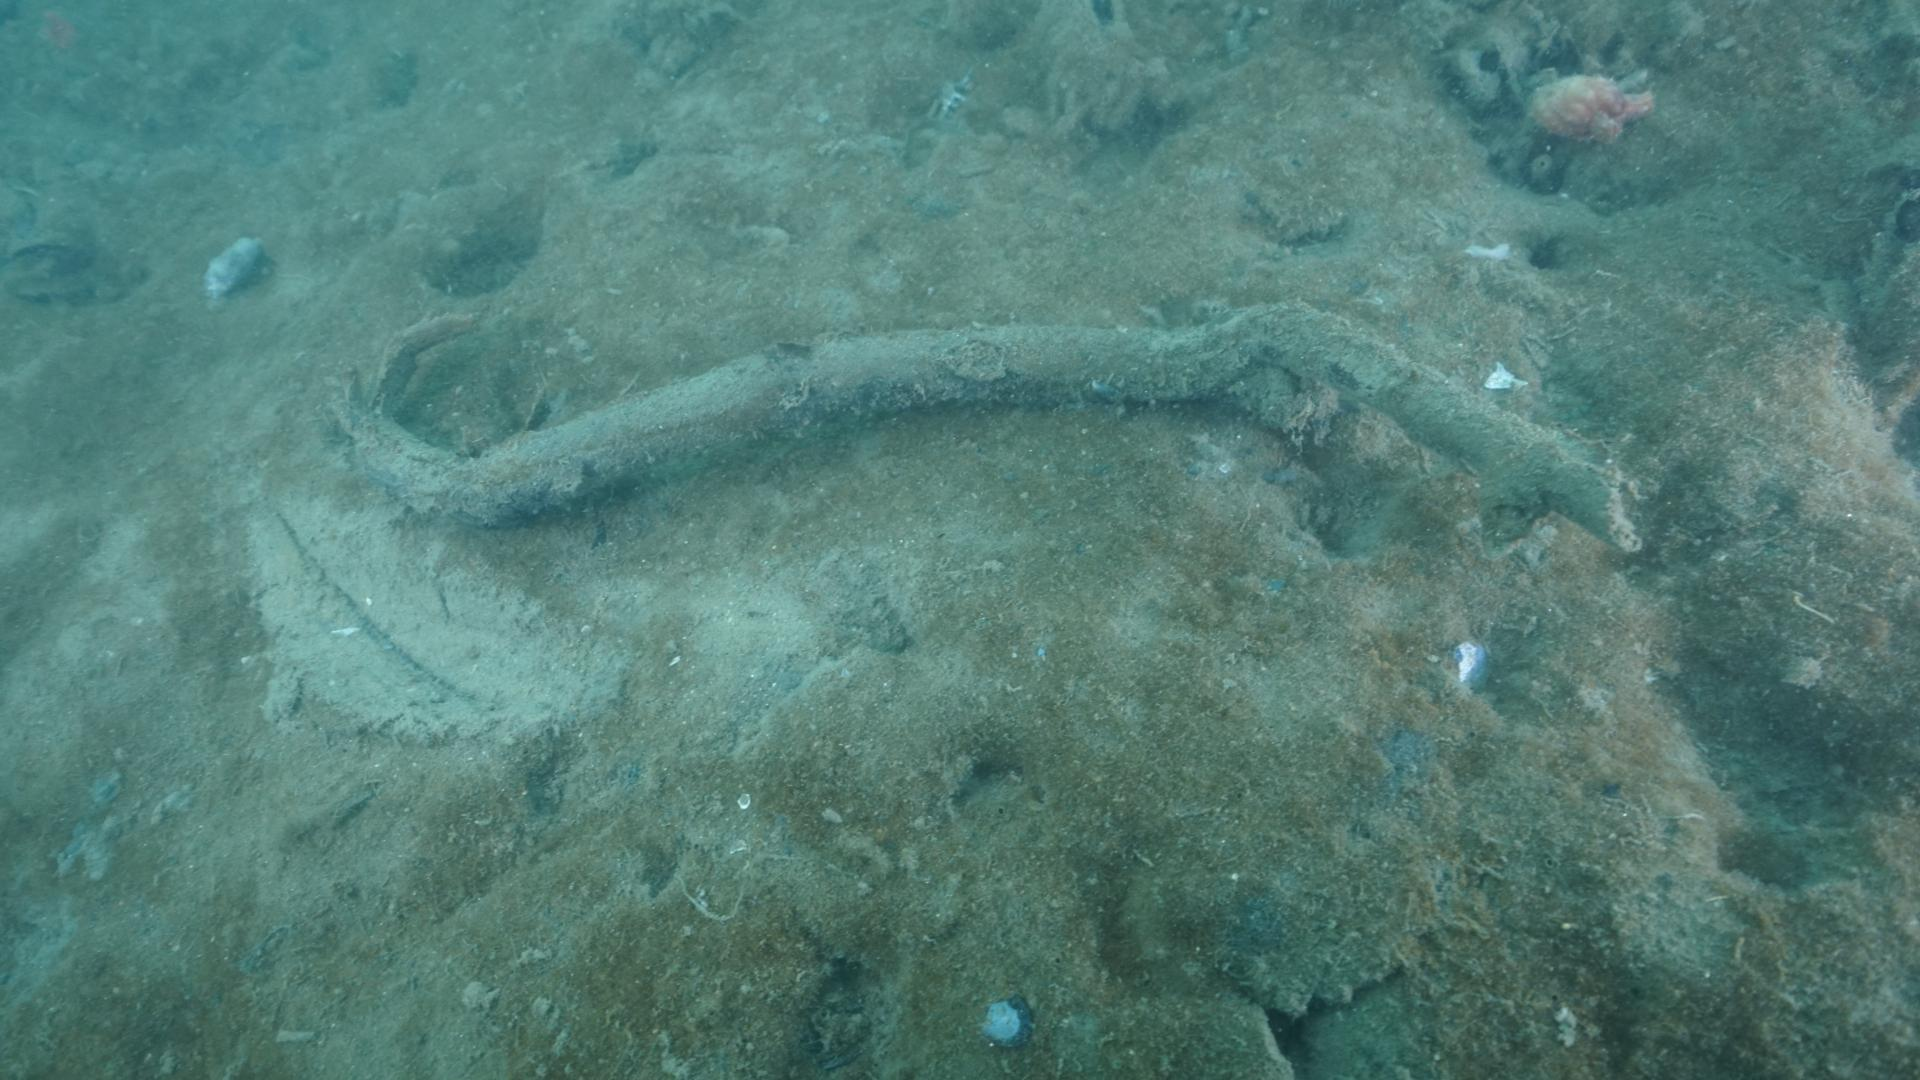wood: (320, 301, 1647, 555)
